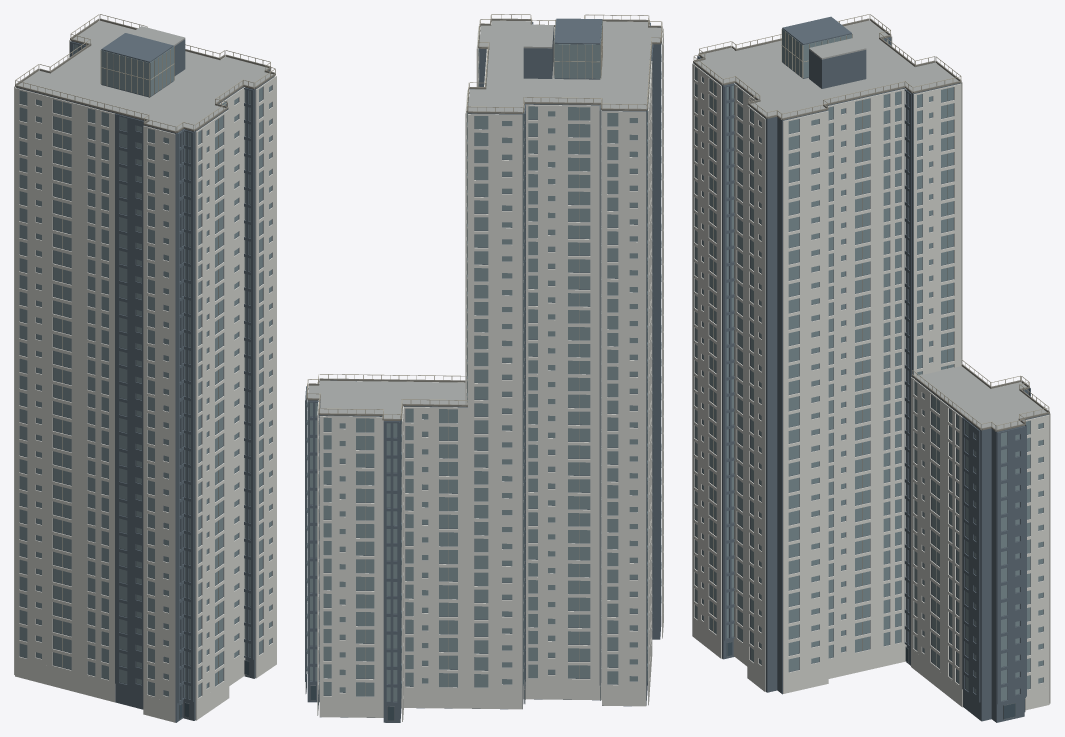
Rendered from bespoke-raemian-onebailey-109.glb.
The picture shows the model from 3 angles, left to right: view 1: azimuth 30°, elevation 25°; view 2: azimuth 150°, elevation 25°; view 3: azimuth 270°, elevation 25°; orthographic projection. The views are drawn at different scales.
Visible parts, largest first — view 1: 109_pale_bays_navy_shafts002_4, 109_pale_bays_navy_shafts002, 109_editable_massing, 109_glass_roof_crown002_3, 109_pale_bays_navy_shafts002_2, 109_glass_roof_crown002; view 2: 109_pale_bays_navy_shafts002_4, 109_pale_bays_navy_shafts002, 109_editable_massing, 109_glass_roof_crown002_3, 109_pale_bays_navy_shafts002_2, 109_glass_roof_crown002; view 3: 109_pale_bays_navy_shafts002_4, 109_editable_massing, 109_pale_bays_navy_shafts002, 109_glass_roof_crown002_3, 109_pale_bays_navy_shafts002_2, 109_glass_roof_crown002.
Boxes of the visible parts, x1,y1,x2,y2 form: 109_pale_bays_navy_shafts002_4: (14,21,276,722); 109_pale_bays_navy_shafts002: (19,44,271,698); 109_editable_massing: (16,33,274,722); 109_glass_roof_crown002_3: (18,20,272,133); 109_pale_bays_navy_shafts002_2: (15,14,275,683); 109_glass_roof_crown002: (15,18,275,132); 109_pale_bays_navy_shafts002_4: (317,20,663,721); 109_pale_bays_navy_shafts002: (307,20,661,701); 109_editable_massing: (305,18,661,722); 109_glass_roof_crown002_3: (308,20,661,418); 109_pale_bays_navy_shafts002_2: (306,14,662,696); 109_glass_roof_crown002: (306,18,662,420); 109_pale_bays_navy_shafts002_4: (692,22,1050,710); 109_editable_massing: (693,16,1048,722); 109_pale_bays_navy_shafts002: (695,29,1043,700); 109_glass_roof_crown002_3: (696,20,1046,431); 109_pale_bays_navy_shafts002_2: (693,14,1049,665); 109_glass_roof_crown002: (693,18,1049,431).
Size of the model in its own units: 50.01 by 110 by 58.41.
